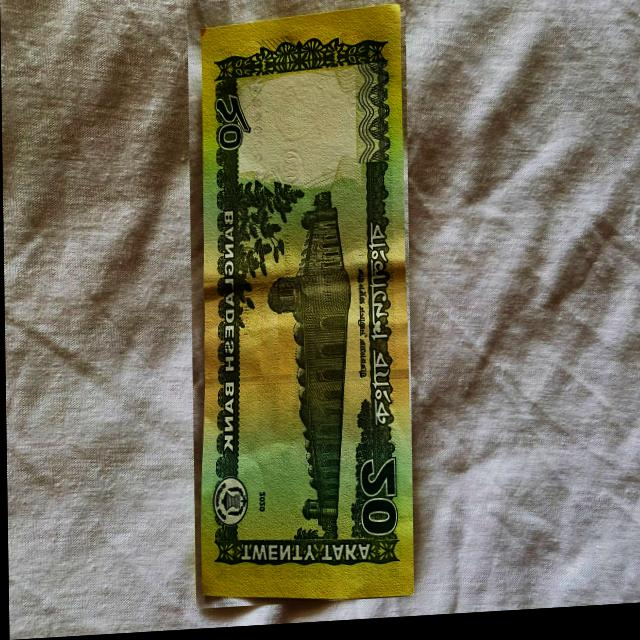Taka: (187, 0, 412, 611)
